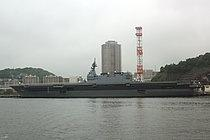MIL_Ship: (9, 57, 203, 99)
